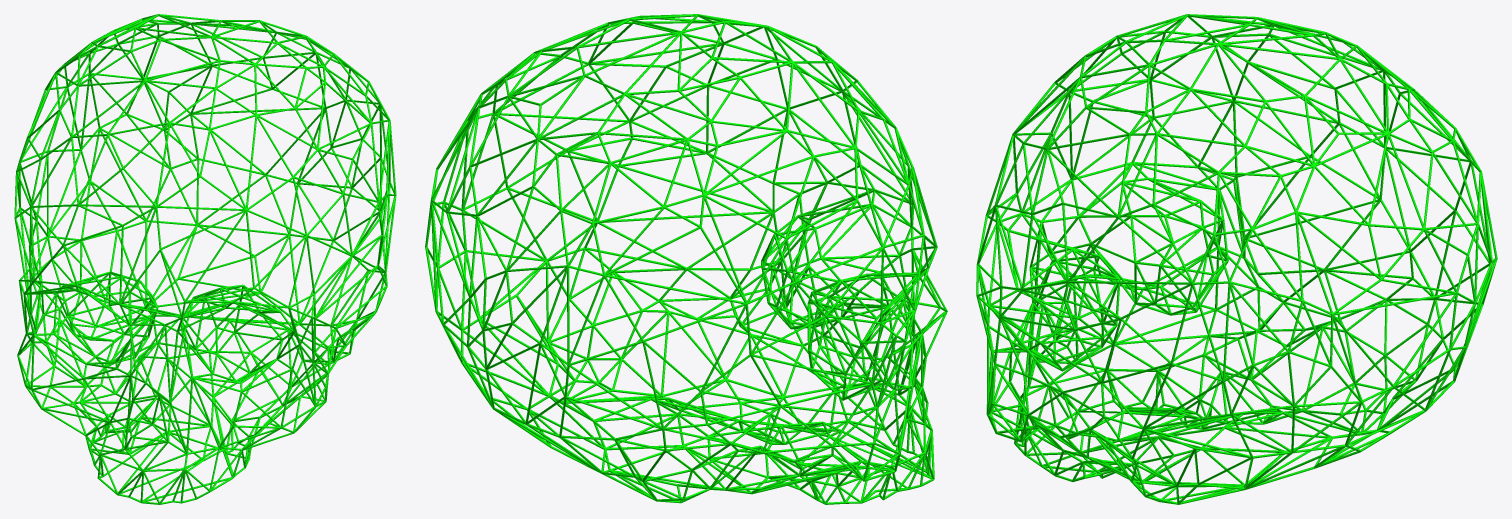
Rendered from DEATHSTROID.fbx.
The picture shows the model from 3 angles, left to right: view 1: azimuth 30°, elevation 25°; view 2: azimuth 150°, elevation 25°; view 3: azimuth 270°, elevation 25°; orthographic projection. The views are drawn at different scales.
Visible parts, largest first — view 1: Main; view 2: Main; view 3: Main.
Boxes of the visible parts, x1,y1,x2,y2 form: Main: (14, 14, 396, 504); Main: (425, 14, 947, 504); Main: (976, 14, 1497, 504).
Size of the model in its own units: 2.28 by 2.24 by 2.28.
